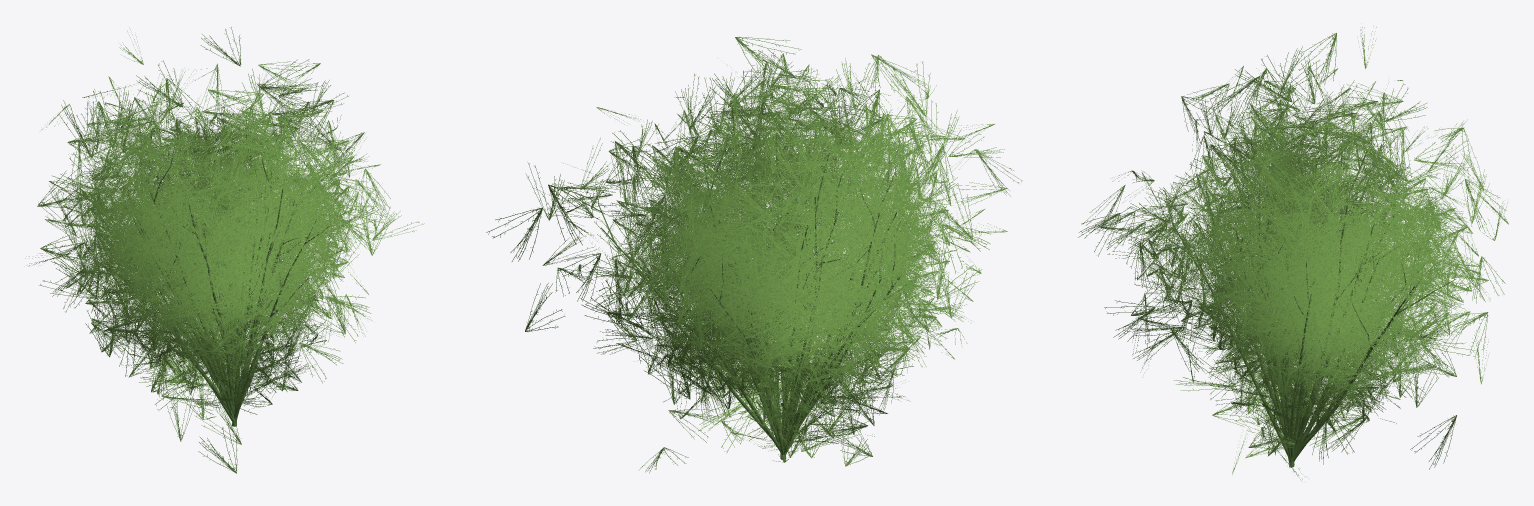
File: BR1_Broom_Green_1.2m.glb
3 renders of one model, left to right at view 1: azimuth 30°, elevation 25°; view 2: azimuth 150°, elevation 25°; view 3: azimuth 270°, elevation 25°, orthographic. The views are drawn at different scales.
Parts seen in each view (by area): view 1: BR1_leaves, BR1_wood; view 2: BR1_leaves, BR1_wood; view 3: BR1_leaves, BR1_wood.
Boxes of the visible parts, x1,y1,x2,y2 form: BR1_leaves: (25, 27, 424, 473); BR1_wood: (101, 113, 329, 426); BR1_leaves: (486, 37, 1022, 473); BR1_wood: (595, 111, 916, 459); BR1_leaves: (1078, 25, 1508, 479); BR1_wood: (1149, 100, 1455, 467).
Bounding box in the file's own units: 1.24 × 1.31 × 1.18.
2 materials, 2 textured.
